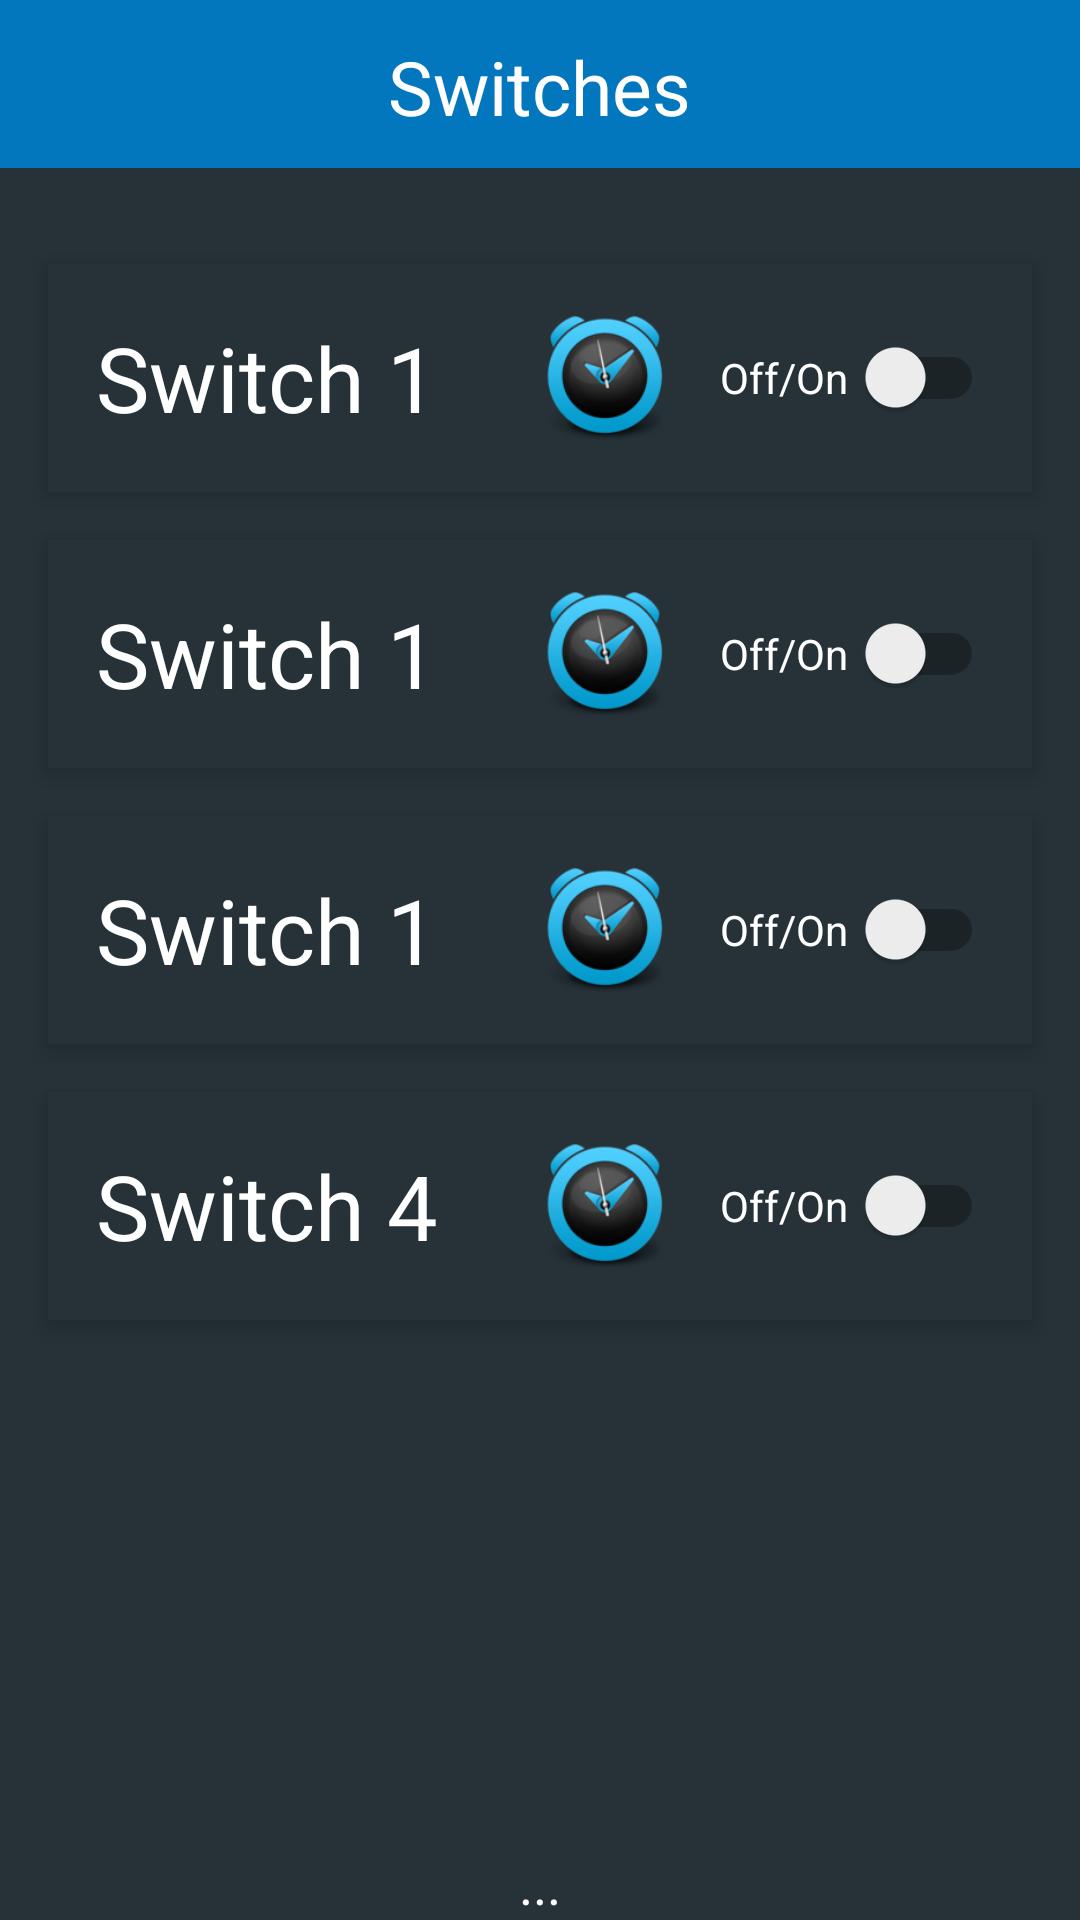

Where to tap for icons on this 1080×1920 app screen, as (x,y):
clock: (604,375), (604,651), (604,927), (604,1203)
